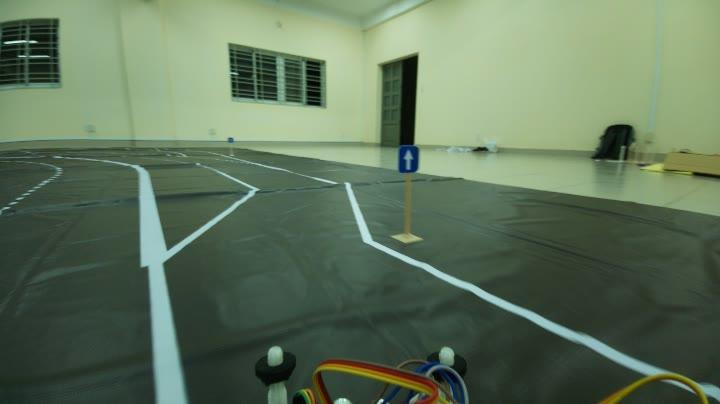onewayroad: (395, 144, 420, 173)
